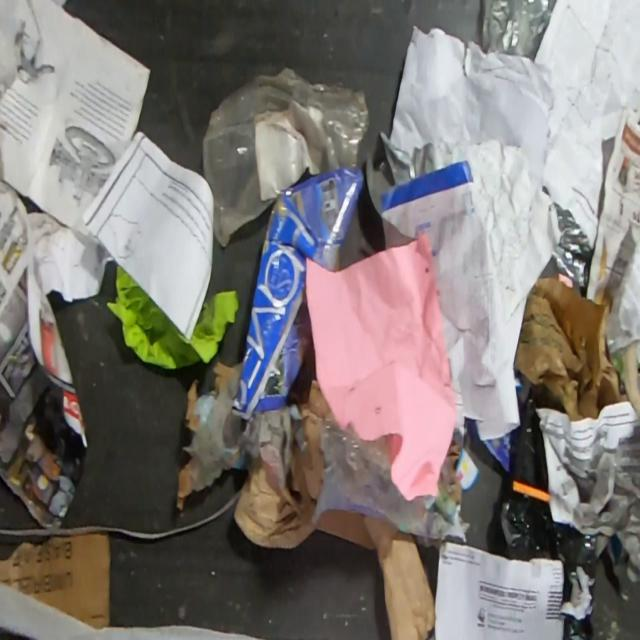cardboard: (316, 509, 436, 639), (0, 532, 111, 631)
rigid_plastic: (499, 385, 596, 580)
soft_plastic: (200, 66, 371, 249), (309, 416, 436, 540), (480, 0, 558, 59), (551, 203, 593, 292)
